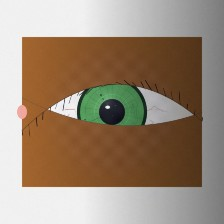pinguecula_lesion: (19, 102, 62, 136)
